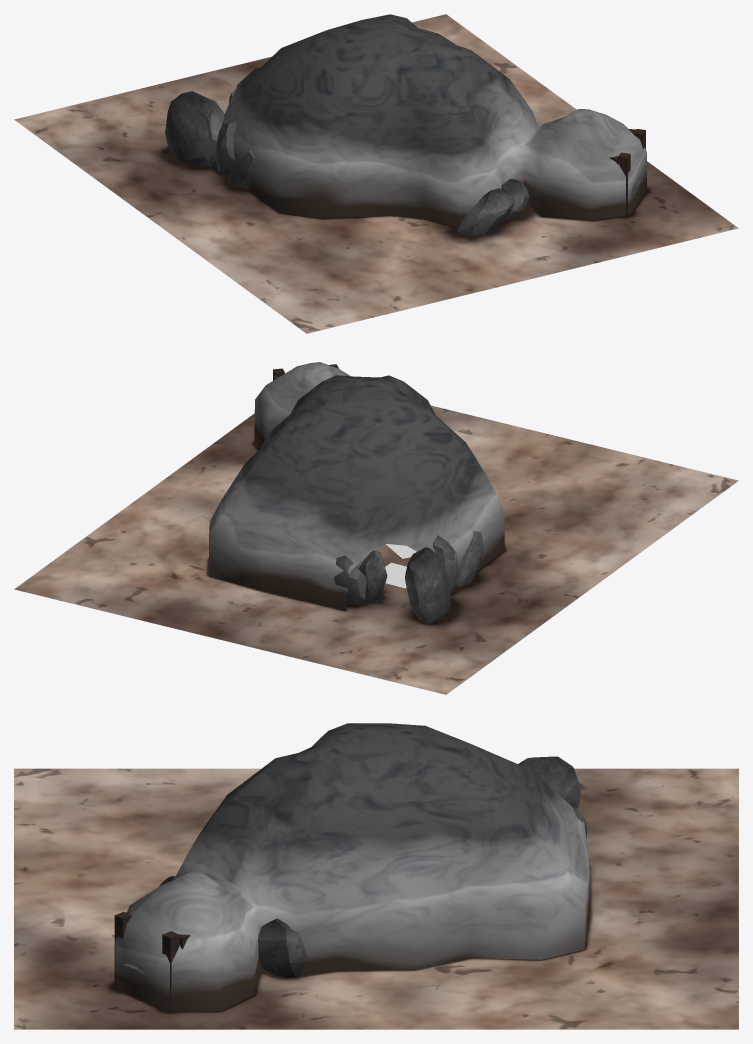
Rendered from Cave_aadi&caroline.fbx.
3 views of the same model, one above another, from view 1: azimuth 30°, elevation 25°; view 2: azimuth 150°, elevation 25°; view 3: azimuth 270°, elevation 25° (orthographic). The views are drawn at different scales.
Visible parts, largest first — view 1: Plane, walls, stone.002, stone.003, stone.004, mineshaft; view 2: Plane, walls, stone.002; view 3: Plane, walls, stone.005, stone.002, mineshaft.
Boxes of the visible parts, x1,y1,x2,y2 form: Plane: (14, 14, 738, 333); walls: (221, 14, 646, 227); stone.002: (165, 87, 255, 189); stone.003: (457, 188, 514, 235); stone.004: (501, 179, 528, 220); mineshaft: (609, 128, 645, 215); Plane: (14, 405, 738, 694); walls: (209, 362, 504, 610); stone.002: (334, 531, 483, 623); Plane: (14, 768, 738, 1029); walls: (115, 723, 589, 1011); stone.005: (258, 918, 308, 977); stone.002: (518, 756, 587, 838); mineshaft: (114, 910, 190, 1011).
Size of the model in its own units: 1922 by 645 by 2255.
4 materials, 4 textured.
